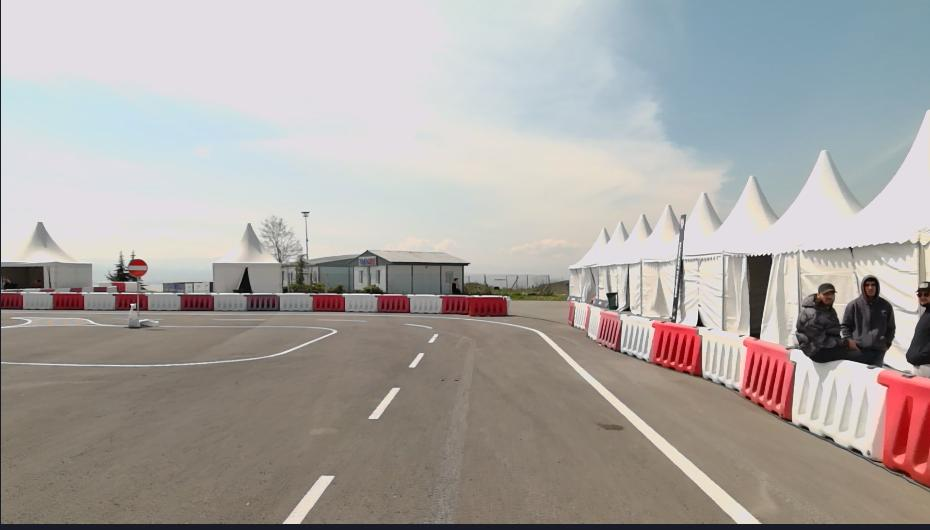nesne: (0, 310, 763, 525), (280, 314, 765, 530), (0, 320, 440, 524), (569, 296, 930, 488), (445, 317, 762, 526), (1, 323, 340, 368), (0, 291, 512, 316), (788, 346, 888, 463), (879, 366, 928, 486), (840, 277, 895, 364), (739, 337, 797, 419), (796, 282, 843, 361), (696, 326, 746, 390), (648, 320, 701, 374), (282, 474, 336, 525), (903, 277, 930, 378), (618, 313, 653, 360), (0, 313, 108, 326), (442, 296, 510, 315), (367, 386, 401, 418), (597, 311, 622, 352), (244, 291, 280, 312), (585, 305, 605, 341), (145, 291, 180, 311), (278, 292, 313, 311), (376, 293, 411, 312), (408, 294, 443, 313), (113, 294, 148, 312), (342, 293, 377, 311), (50, 292, 84, 310), (82, 292, 116, 310), (22, 291, 54, 310), (312, 293, 344, 312), (180, 294, 214, 311), (212, 294, 246, 310), (126, 258, 147, 278), (572, 302, 588, 328), (1, 291, 22, 309), (128, 302, 142, 328), (406, 352, 425, 368), (567, 300, 575, 324), (110, 281, 126, 293), (406, 322, 433, 329), (450, 276, 461, 293), (125, 282, 137, 293), (426, 333, 439, 343)
